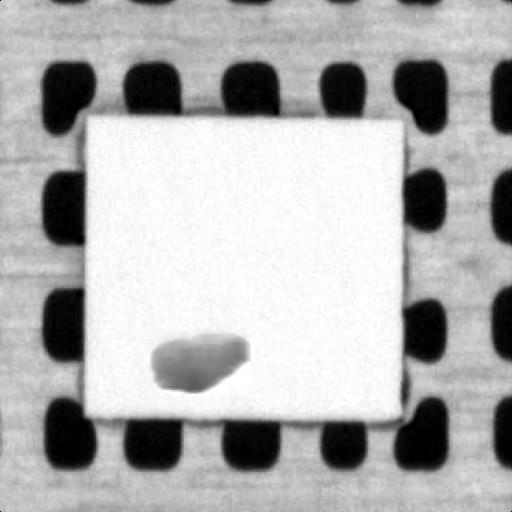DIE_INK: (151, 324, 248, 392)
